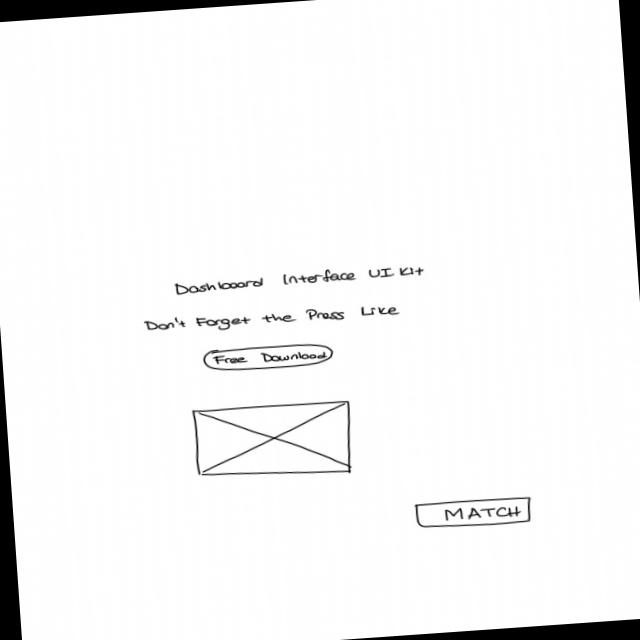button: (200, 340, 336, 374), (412, 494, 534, 531)
label: (190, 396, 354, 486), (140, 299, 402, 337), (172, 262, 426, 296)
